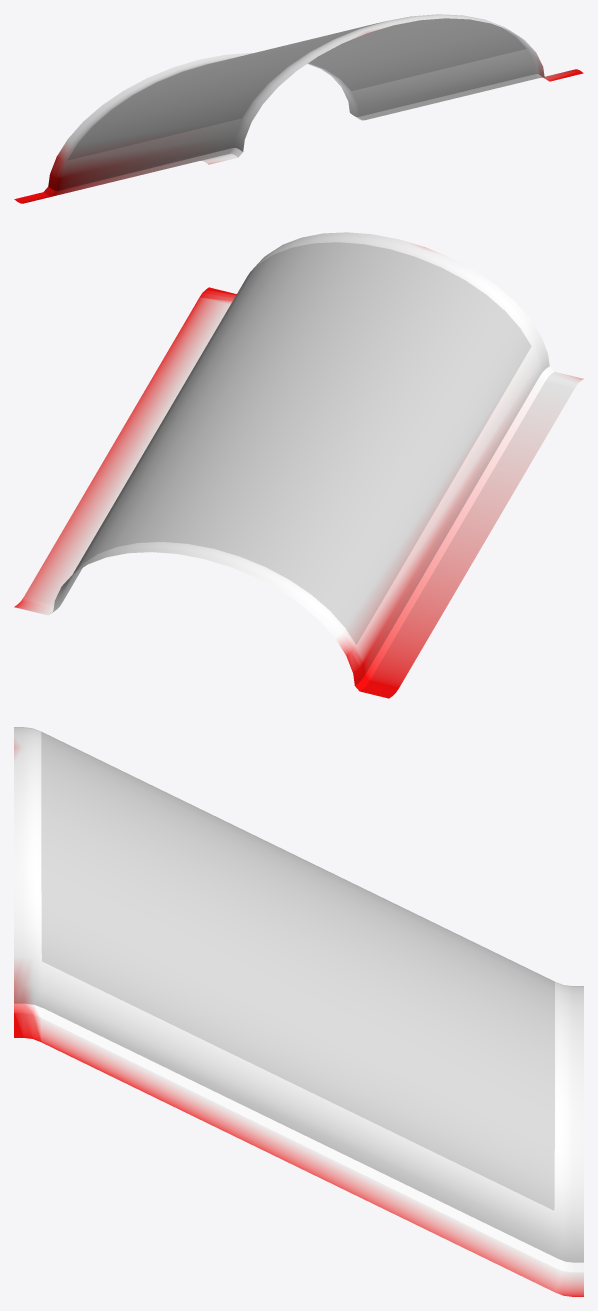
The model's file is SM_MERGED_SM_Stairs_Ceiling_03_169.FBX.
3 renders of one model, top to bottom at view 1: azimuth 30°, elevation 25°; view 2: azimuth 150°, elevation 25°; view 3: azimuth 270°, elevation 25°, orthographic. The views are drawn at different scales.
Visible parts, largest first — view 1: SM_MERGED_SM_Stairs_Ceiling_03_169; view 2: SM_MERGED_SM_Stairs_Ceiling_03_169; view 3: SM_MERGED_SM_Stairs_Ceiling_03_169.
Part boxes in pixels (x1,y1,x2,y2): SM_MERGED_SM_Stairs_Ceiling_03_169: [14, 14, 583, 203]; SM_MERGED_SM_Stairs_Ceiling_03_169: [14, 232, 583, 698]; SM_MERGED_SM_Stairs_Ceiling_03_169: [14, 727, 583, 1296].
Size of what is drawn, in the model's own units: 500 by 450 by 346.
